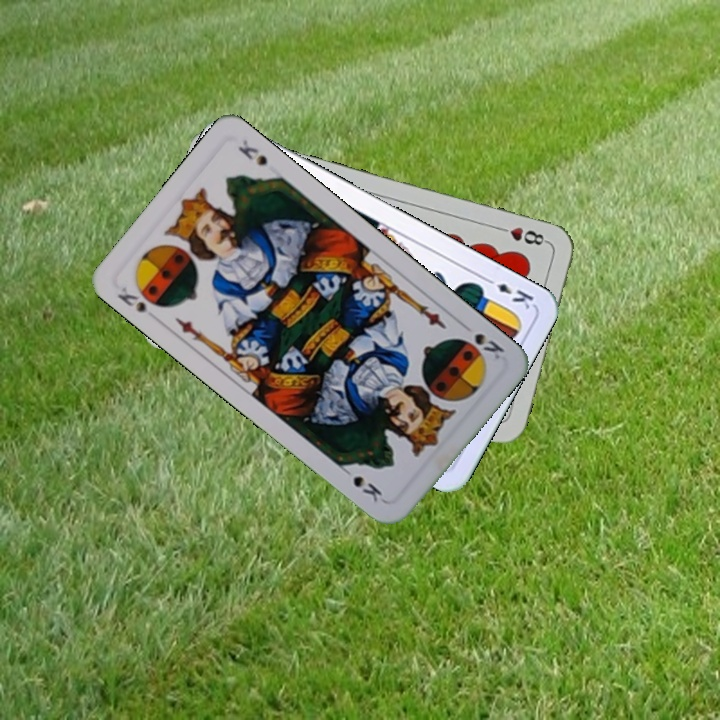EK: (480, 273, 537, 312)
H8: (493, 222, 551, 248)
SK: (457, 318, 507, 362), (113, 282, 152, 316)
